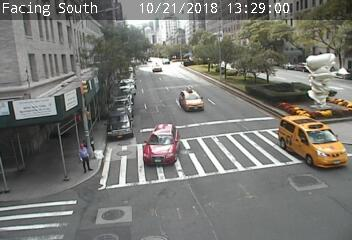car: (278, 115, 345, 170), (143, 124, 178, 165), (180, 88, 202, 112)
